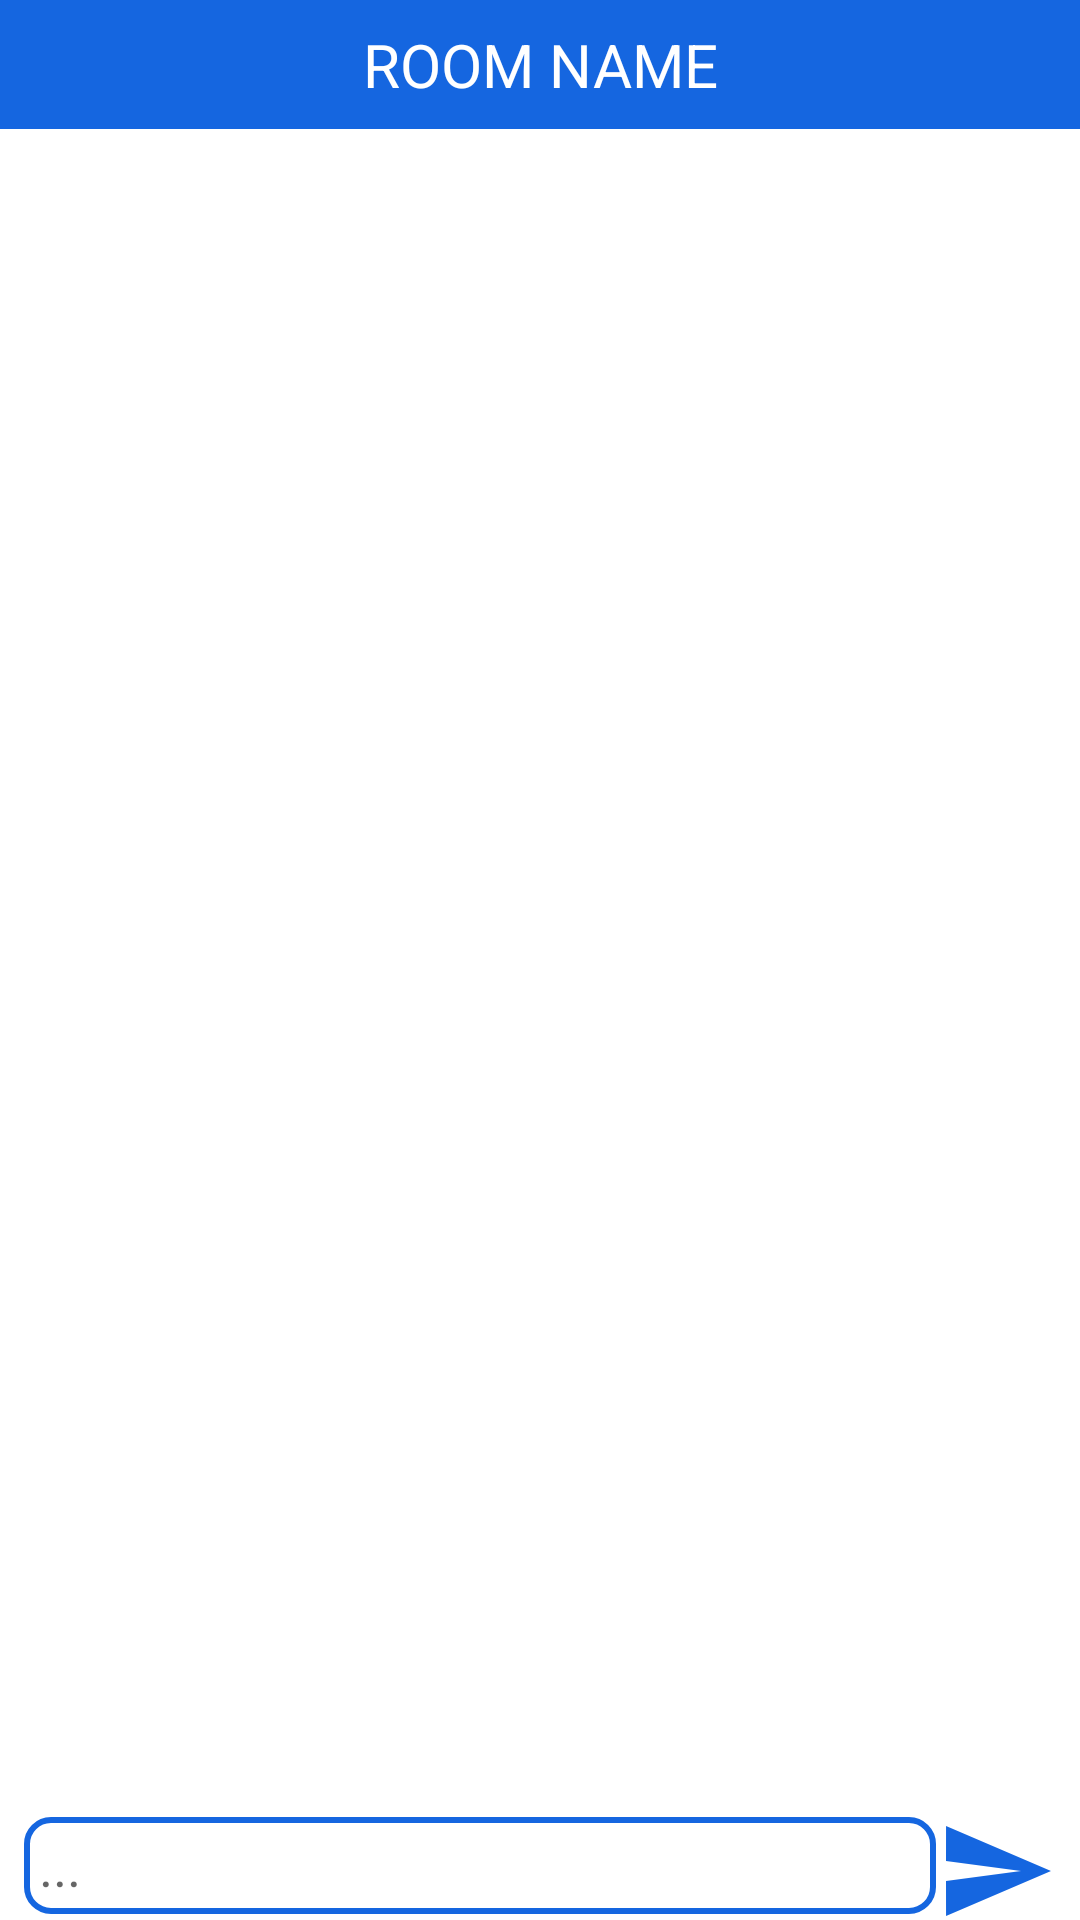

Icons on this 1080x1920 Android screen, each with its box as (x1, y1, x2, y2):
send: (946, 1826, 1051, 1916)
